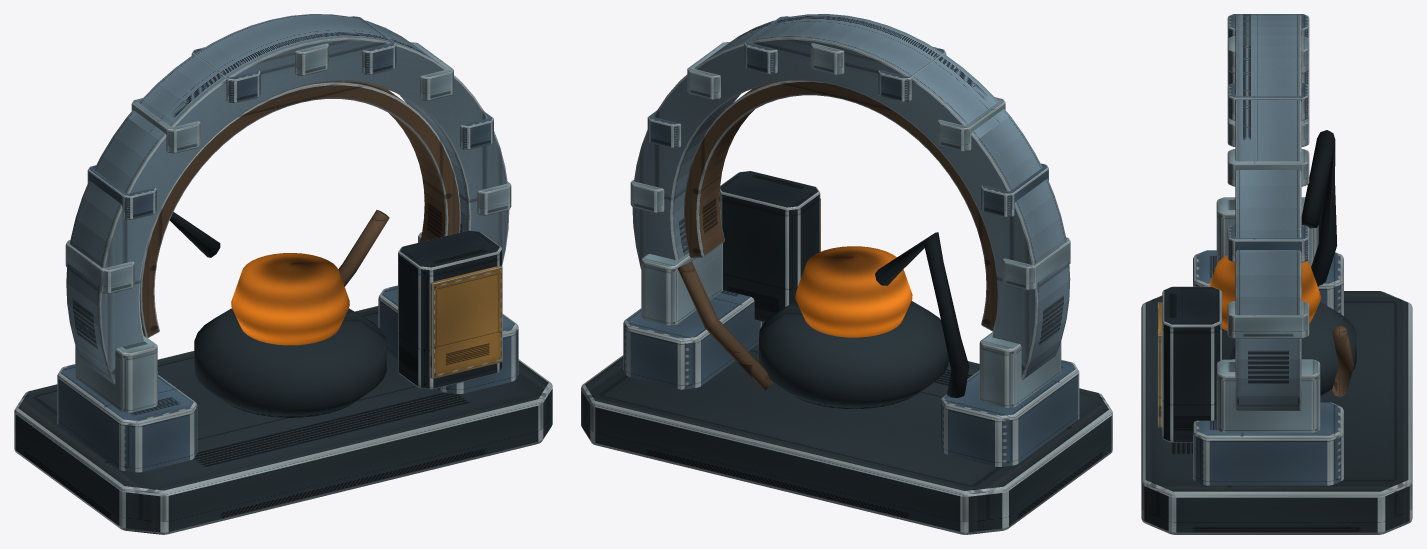
The model's file is V46_ArcMachine.fbx.
3 renders of one model, left to right at view 1: azimuth 30°, elevation 25°; view 2: azimuth 150°, elevation 25°; view 3: azimuth 270°, elevation 25°, orthographic. The views are drawn at different scales.
Visible parts, largest first — view 1: V46_ArcMachine; view 2: V46_ArcMachine; view 3: V46_ArcMachine.
Boxes of the visible parts, <box> form: V46_ArcMachine: <box>14,14,552,534</box>; V46_ArcMachine: <box>581,14,1112,534</box>; V46_ArcMachine: <box>1141,14,1412,534</box>.
Bounding box in the file's own units: 2.85 × 2.6 × 1.6.
